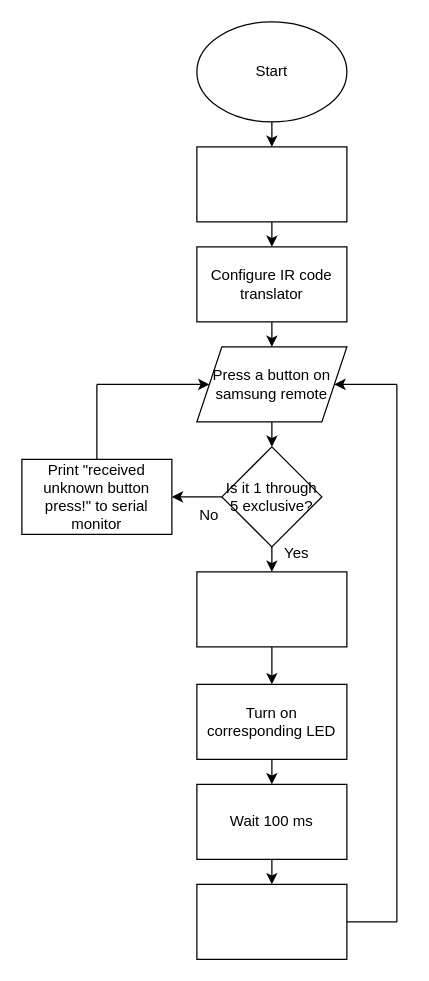
Some shapes in this 429 by 981 pixel diagram are drawn without their labels. The centre of each missing label's shape, as x and y in pixels:
Initialize IR receiver and IR pins, LED pins: point 271,184
Print received input to serial monitor. e.g. "5 received": point 271,609
Turn off LED: point 271,921
